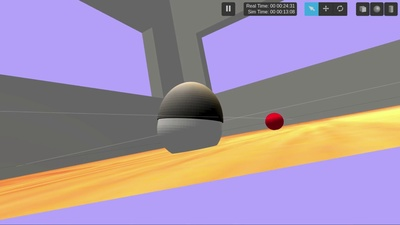mira_robot: (157, 82, 224, 154)
